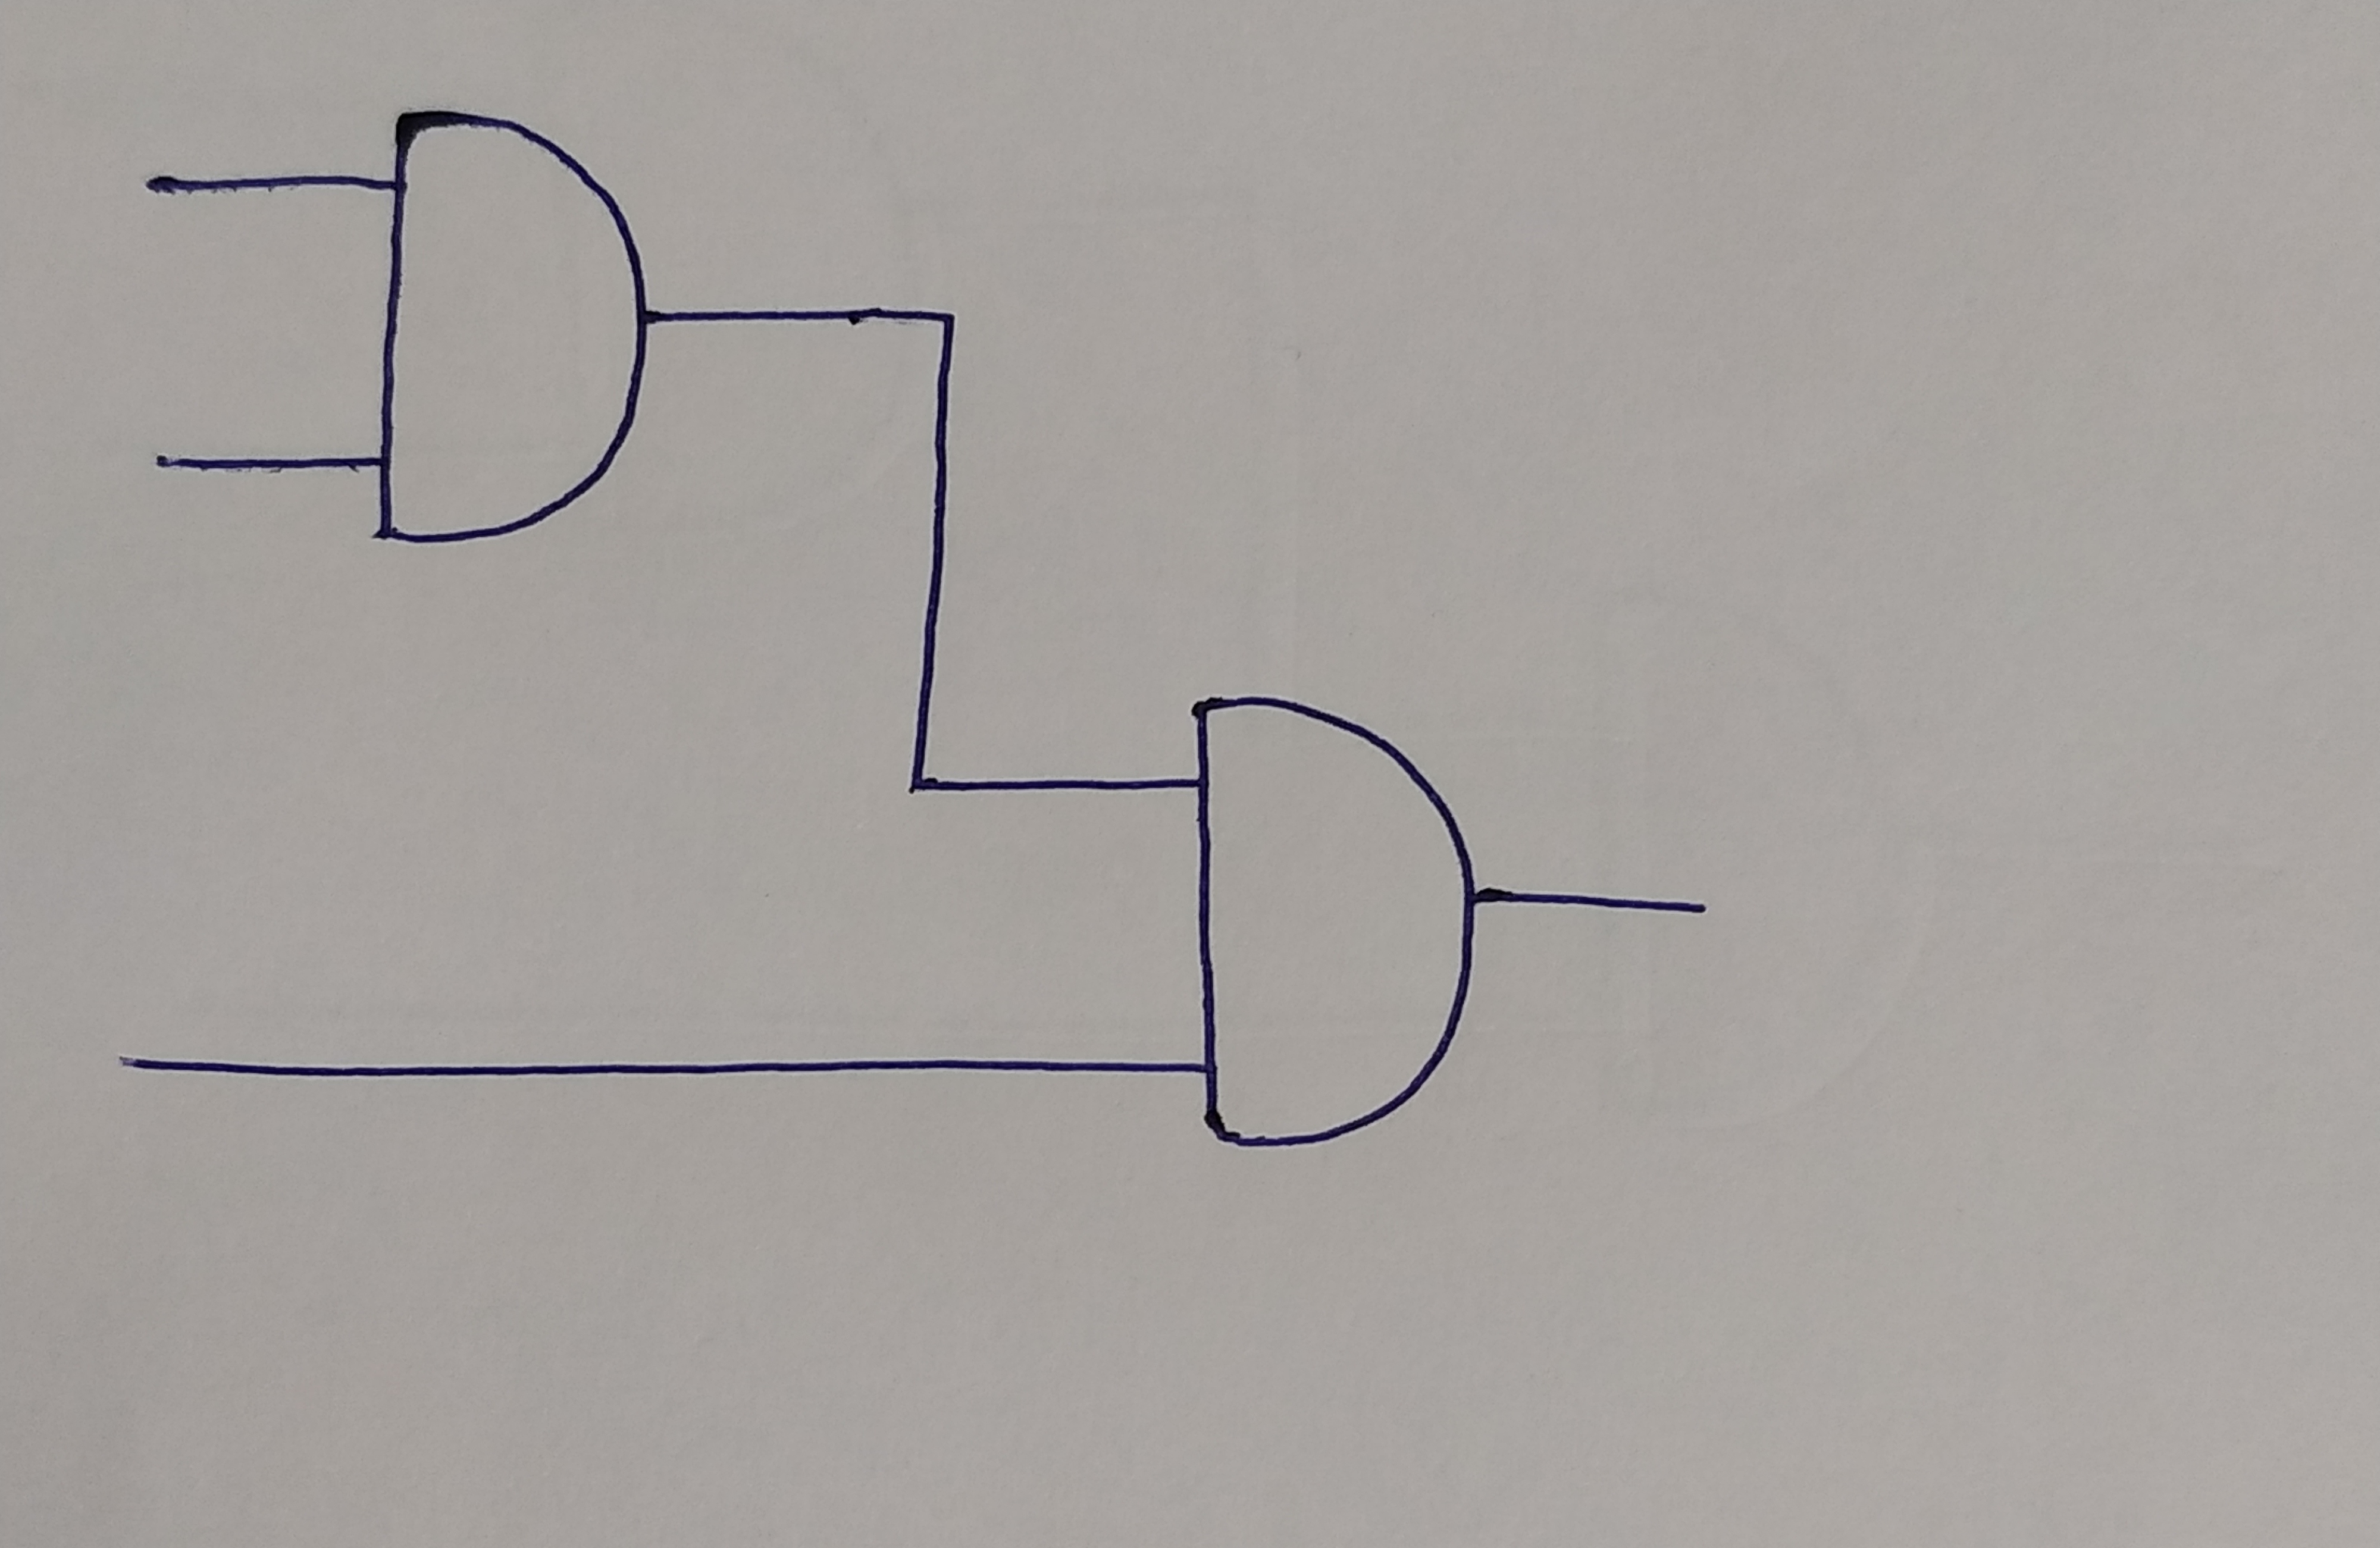and: (1192, 694, 1474, 1138), (385, 101, 651, 543)
